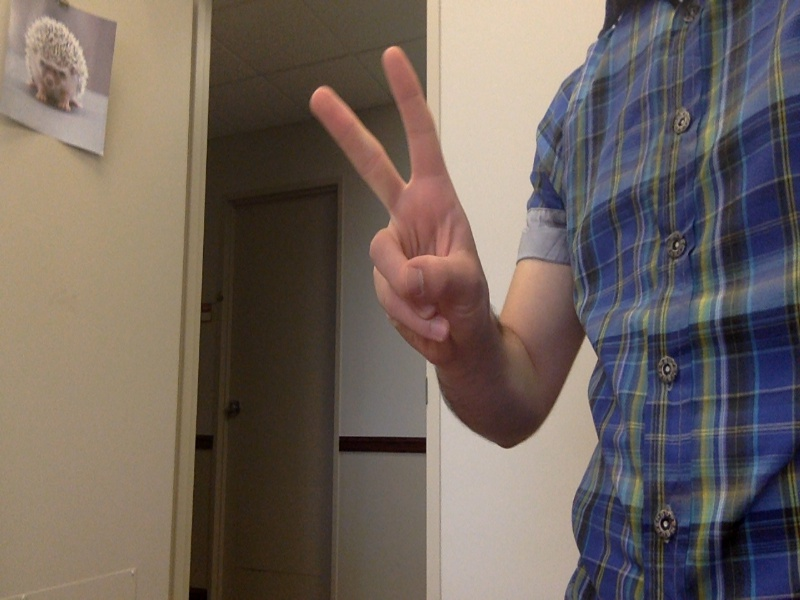2-hand: (307, 43, 503, 369)
